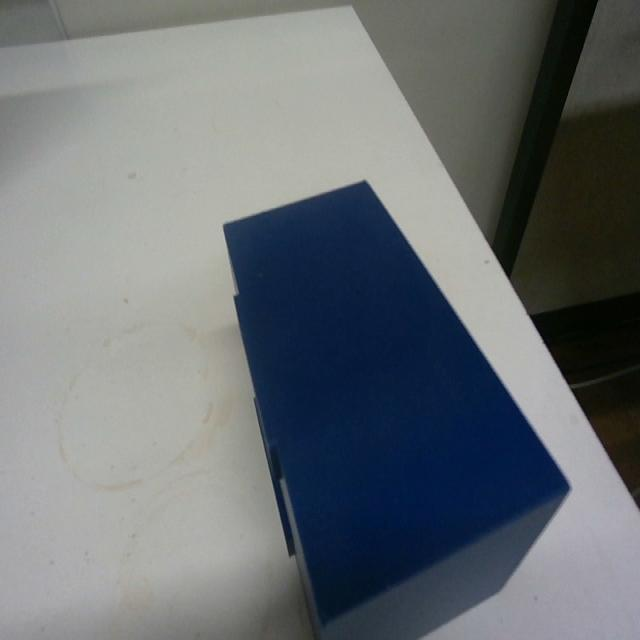Blue Cuboid: (220, 175, 572, 637)
